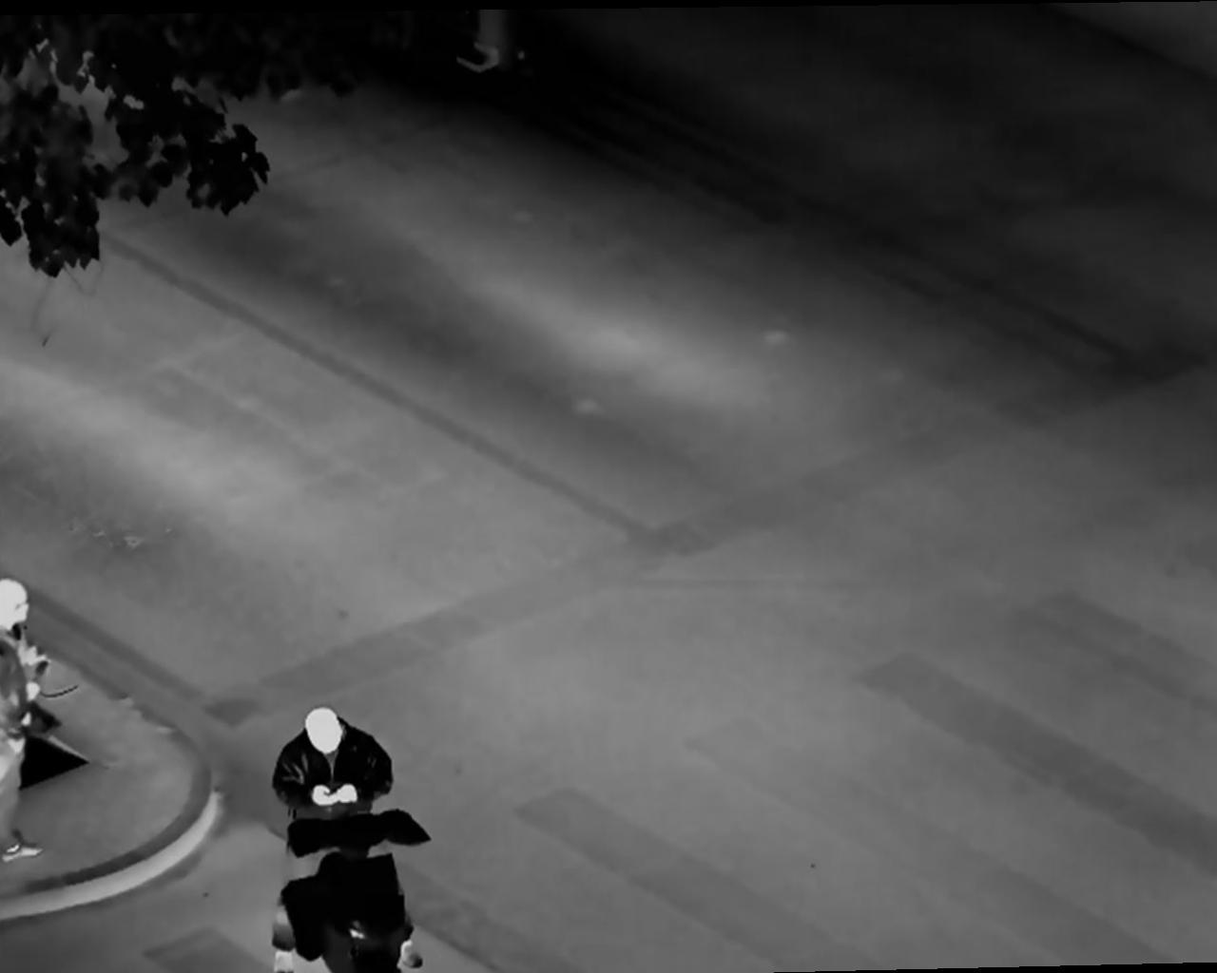person: (272, 702, 410, 953)
